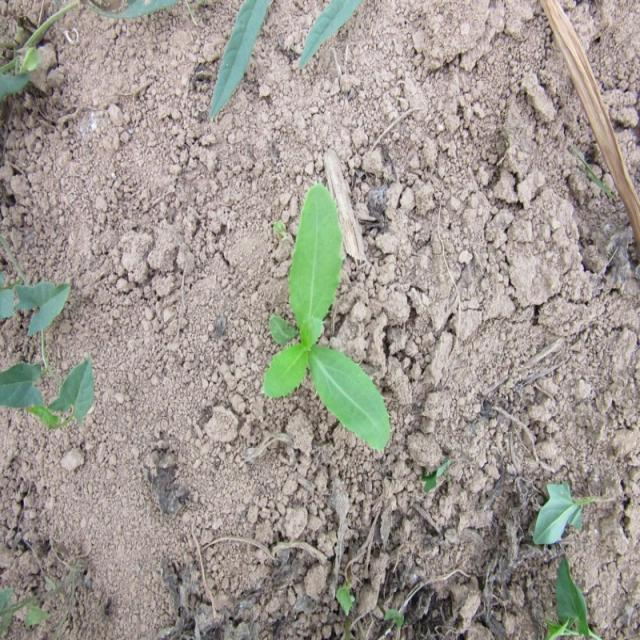cs: (259, 176, 394, 462)
